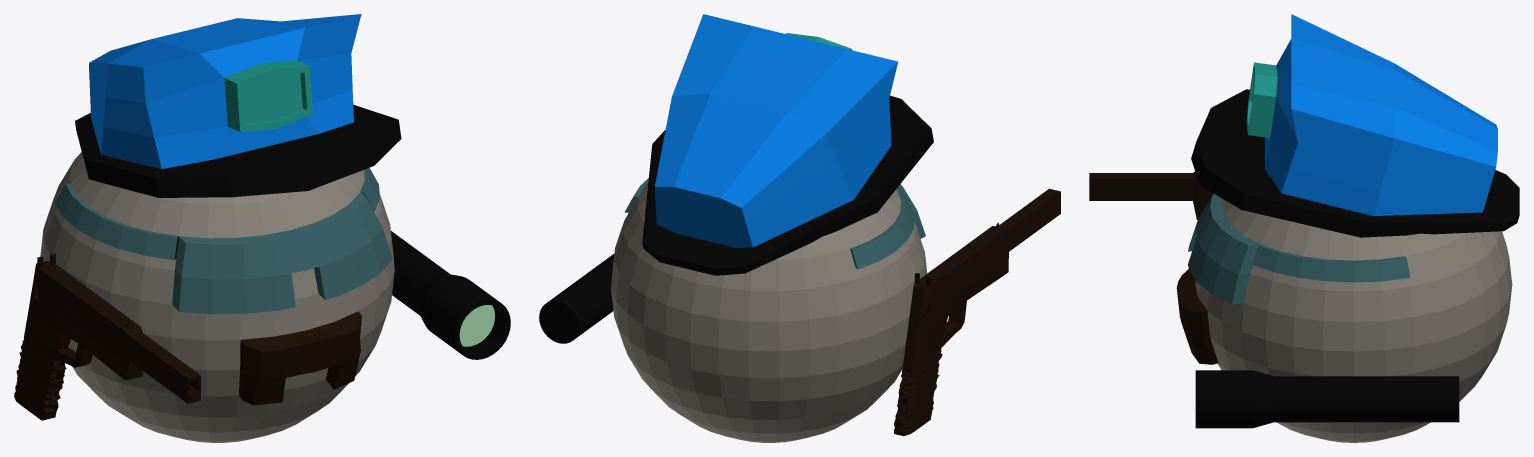
File: PoliceChar.fbx
3 renders of one model, left to right at view 1: azimuth 30°, elevation 25°; view 2: azimuth 150°, elevation 25°; view 3: azimuth 270°, elevation 25°, orthographic. The views are drawn at different scales.
Parts seen in each view (by area): view 1: Officer, Object, FlashLight; view 2: Officer, Object, FlashLight; view 3: Officer, FlashLight, Object.
Boxes of the visible parts, box(x1,y1,x2,y2) form: Officer: box(40, 14, 401, 442); Object: box(14, 253, 200, 420); FlashLight: box(391, 231, 510, 359); Officer: box(611, 14, 933, 442); Object: box(894, 188, 1060, 436); FlashLight: box(539, 254, 614, 343); Officer: box(1176, 14, 1519, 442); FlashLight: box(1195, 370, 1459, 428); Object: box(1089, 172, 1213, 219).
Size of the model in its own units: 250 by 255 by 272.
